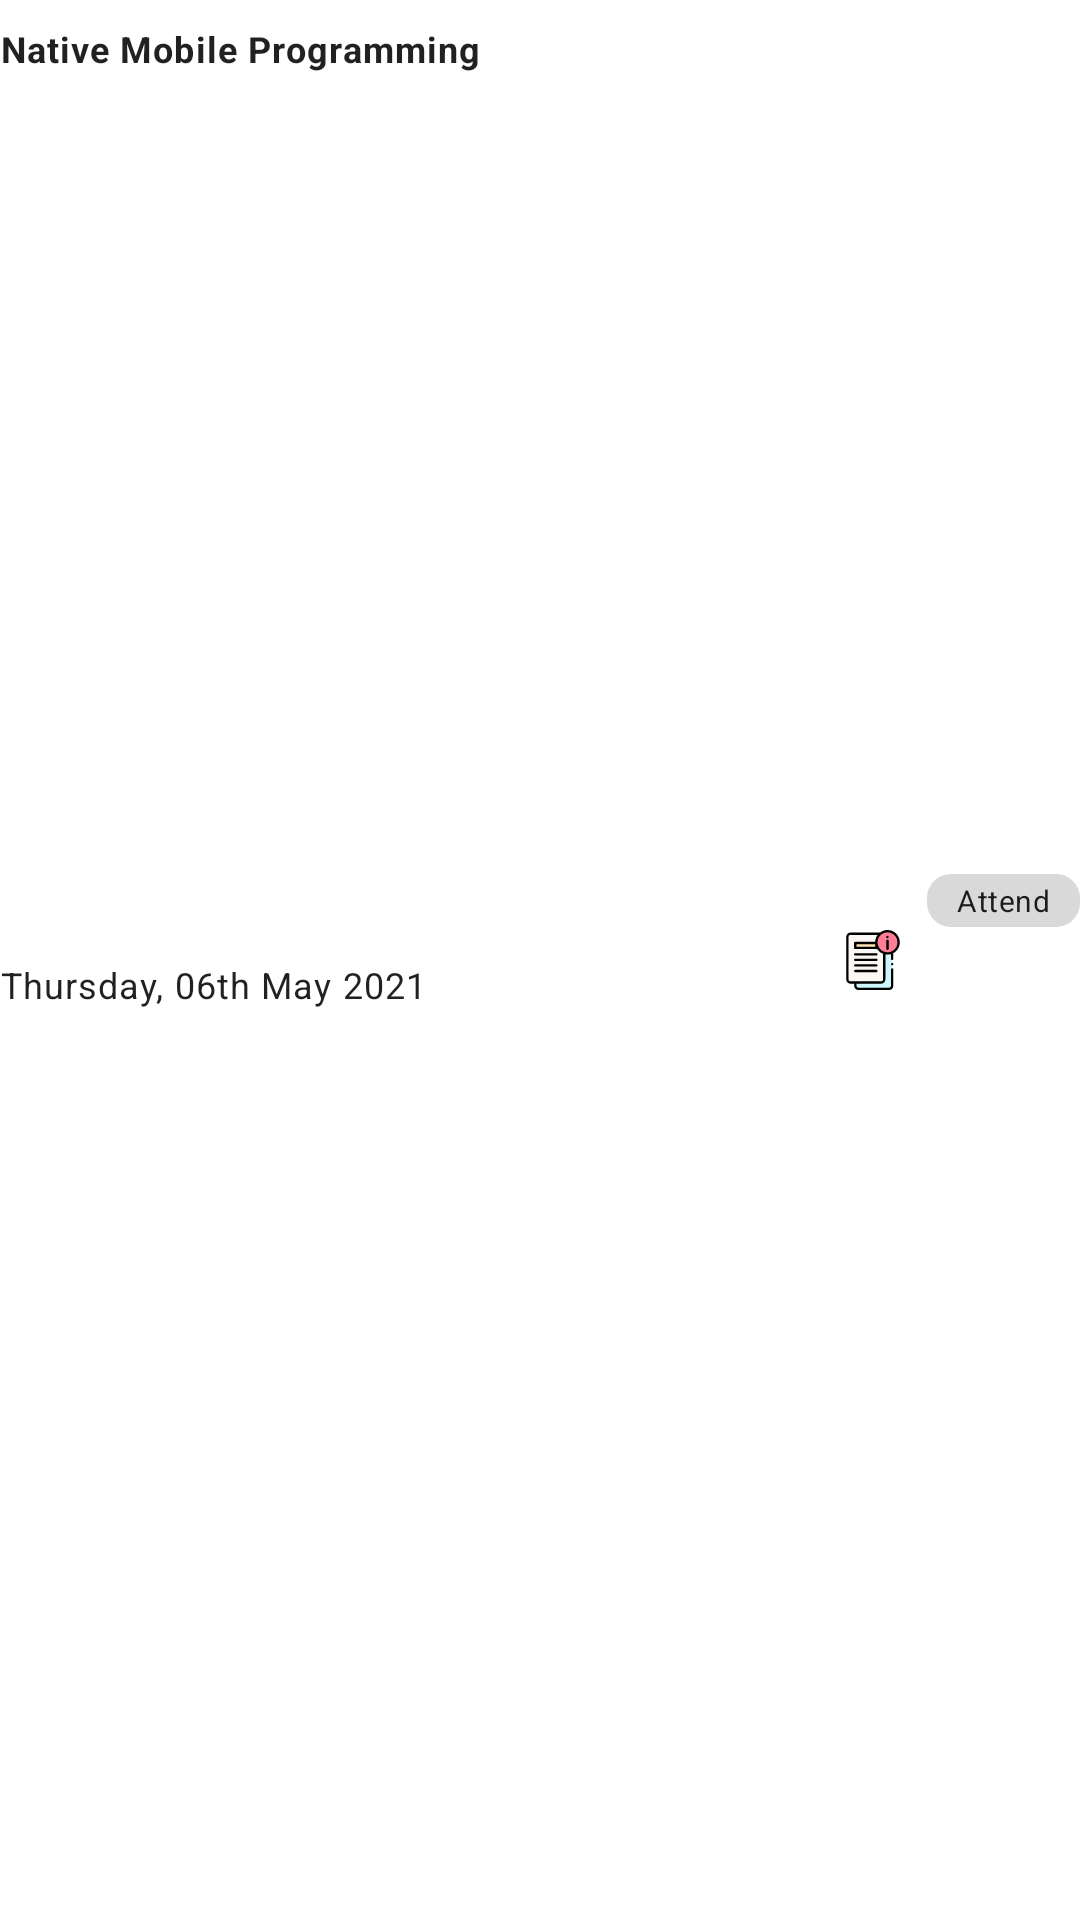

Screen size 1080 × 1920. Icon name, then its box in pixels as (x1, y1, x2, y2):
file: (846, 930, 900, 990)
